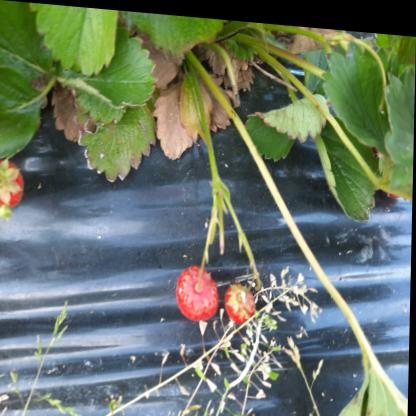ripe: (177, 257, 216, 316), (0, 160, 23, 207), (229, 282, 255, 316)
